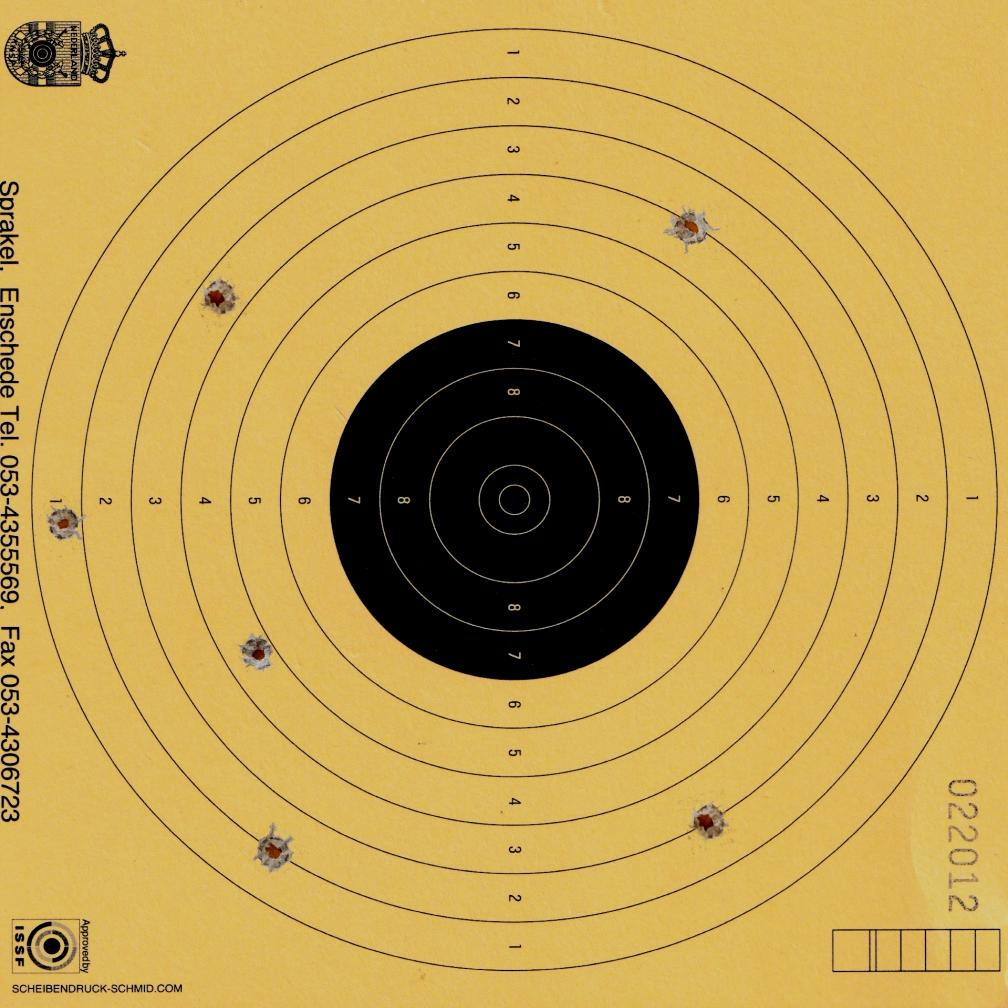2: (251, 824, 296, 873), (47, 502, 87, 543)
3: (196, 274, 242, 318), (686, 800, 730, 842)
4: (660, 204, 721, 254), (233, 632, 274, 675)
Target: (23, 26, 1002, 976)
black_contour: (331, 320, 699, 681)
